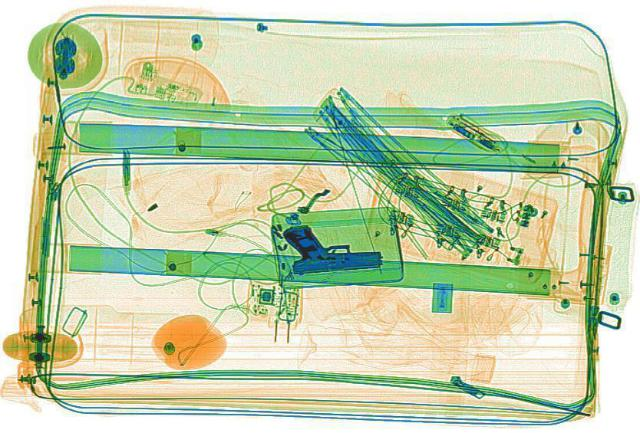Gun: (280, 218, 384, 272)
